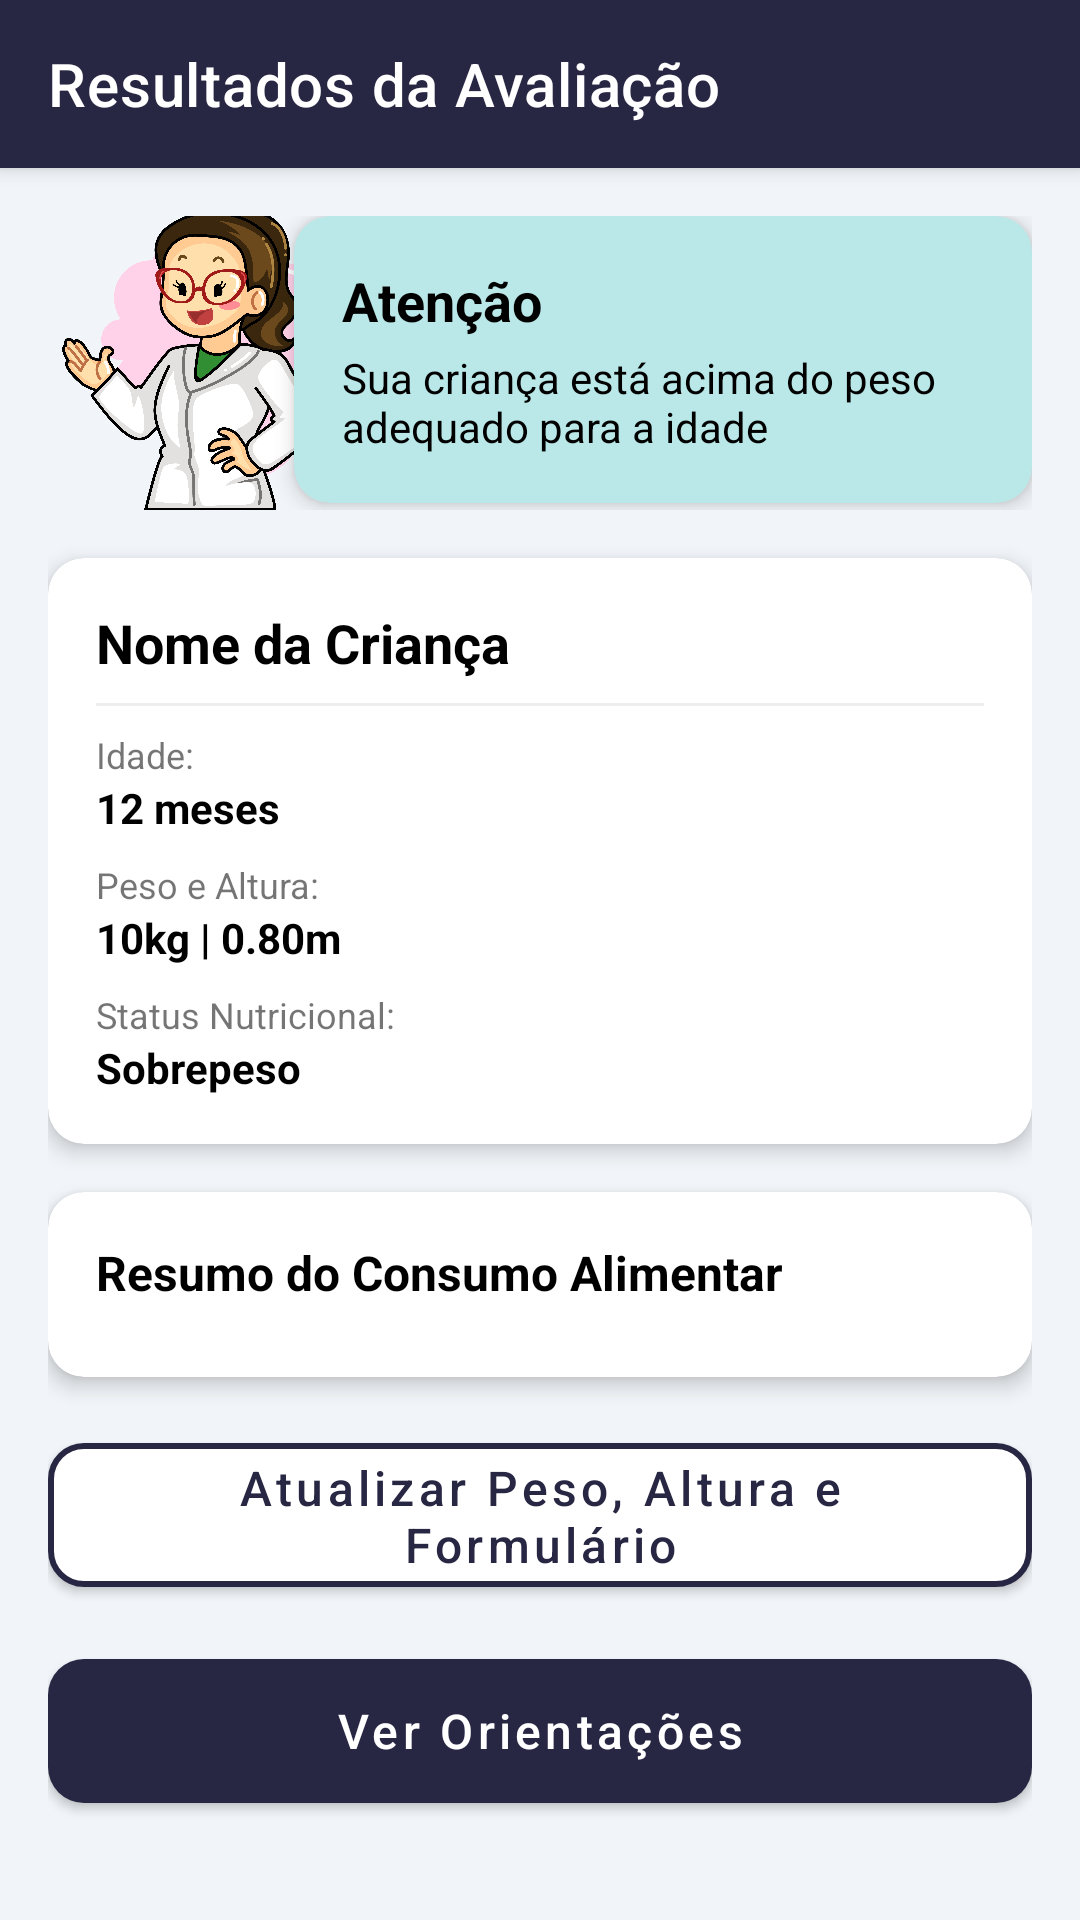

Screen size 1080 × 1920. Icon name, then its center in pixels as (x,y):
enfermeira: (205,363)
